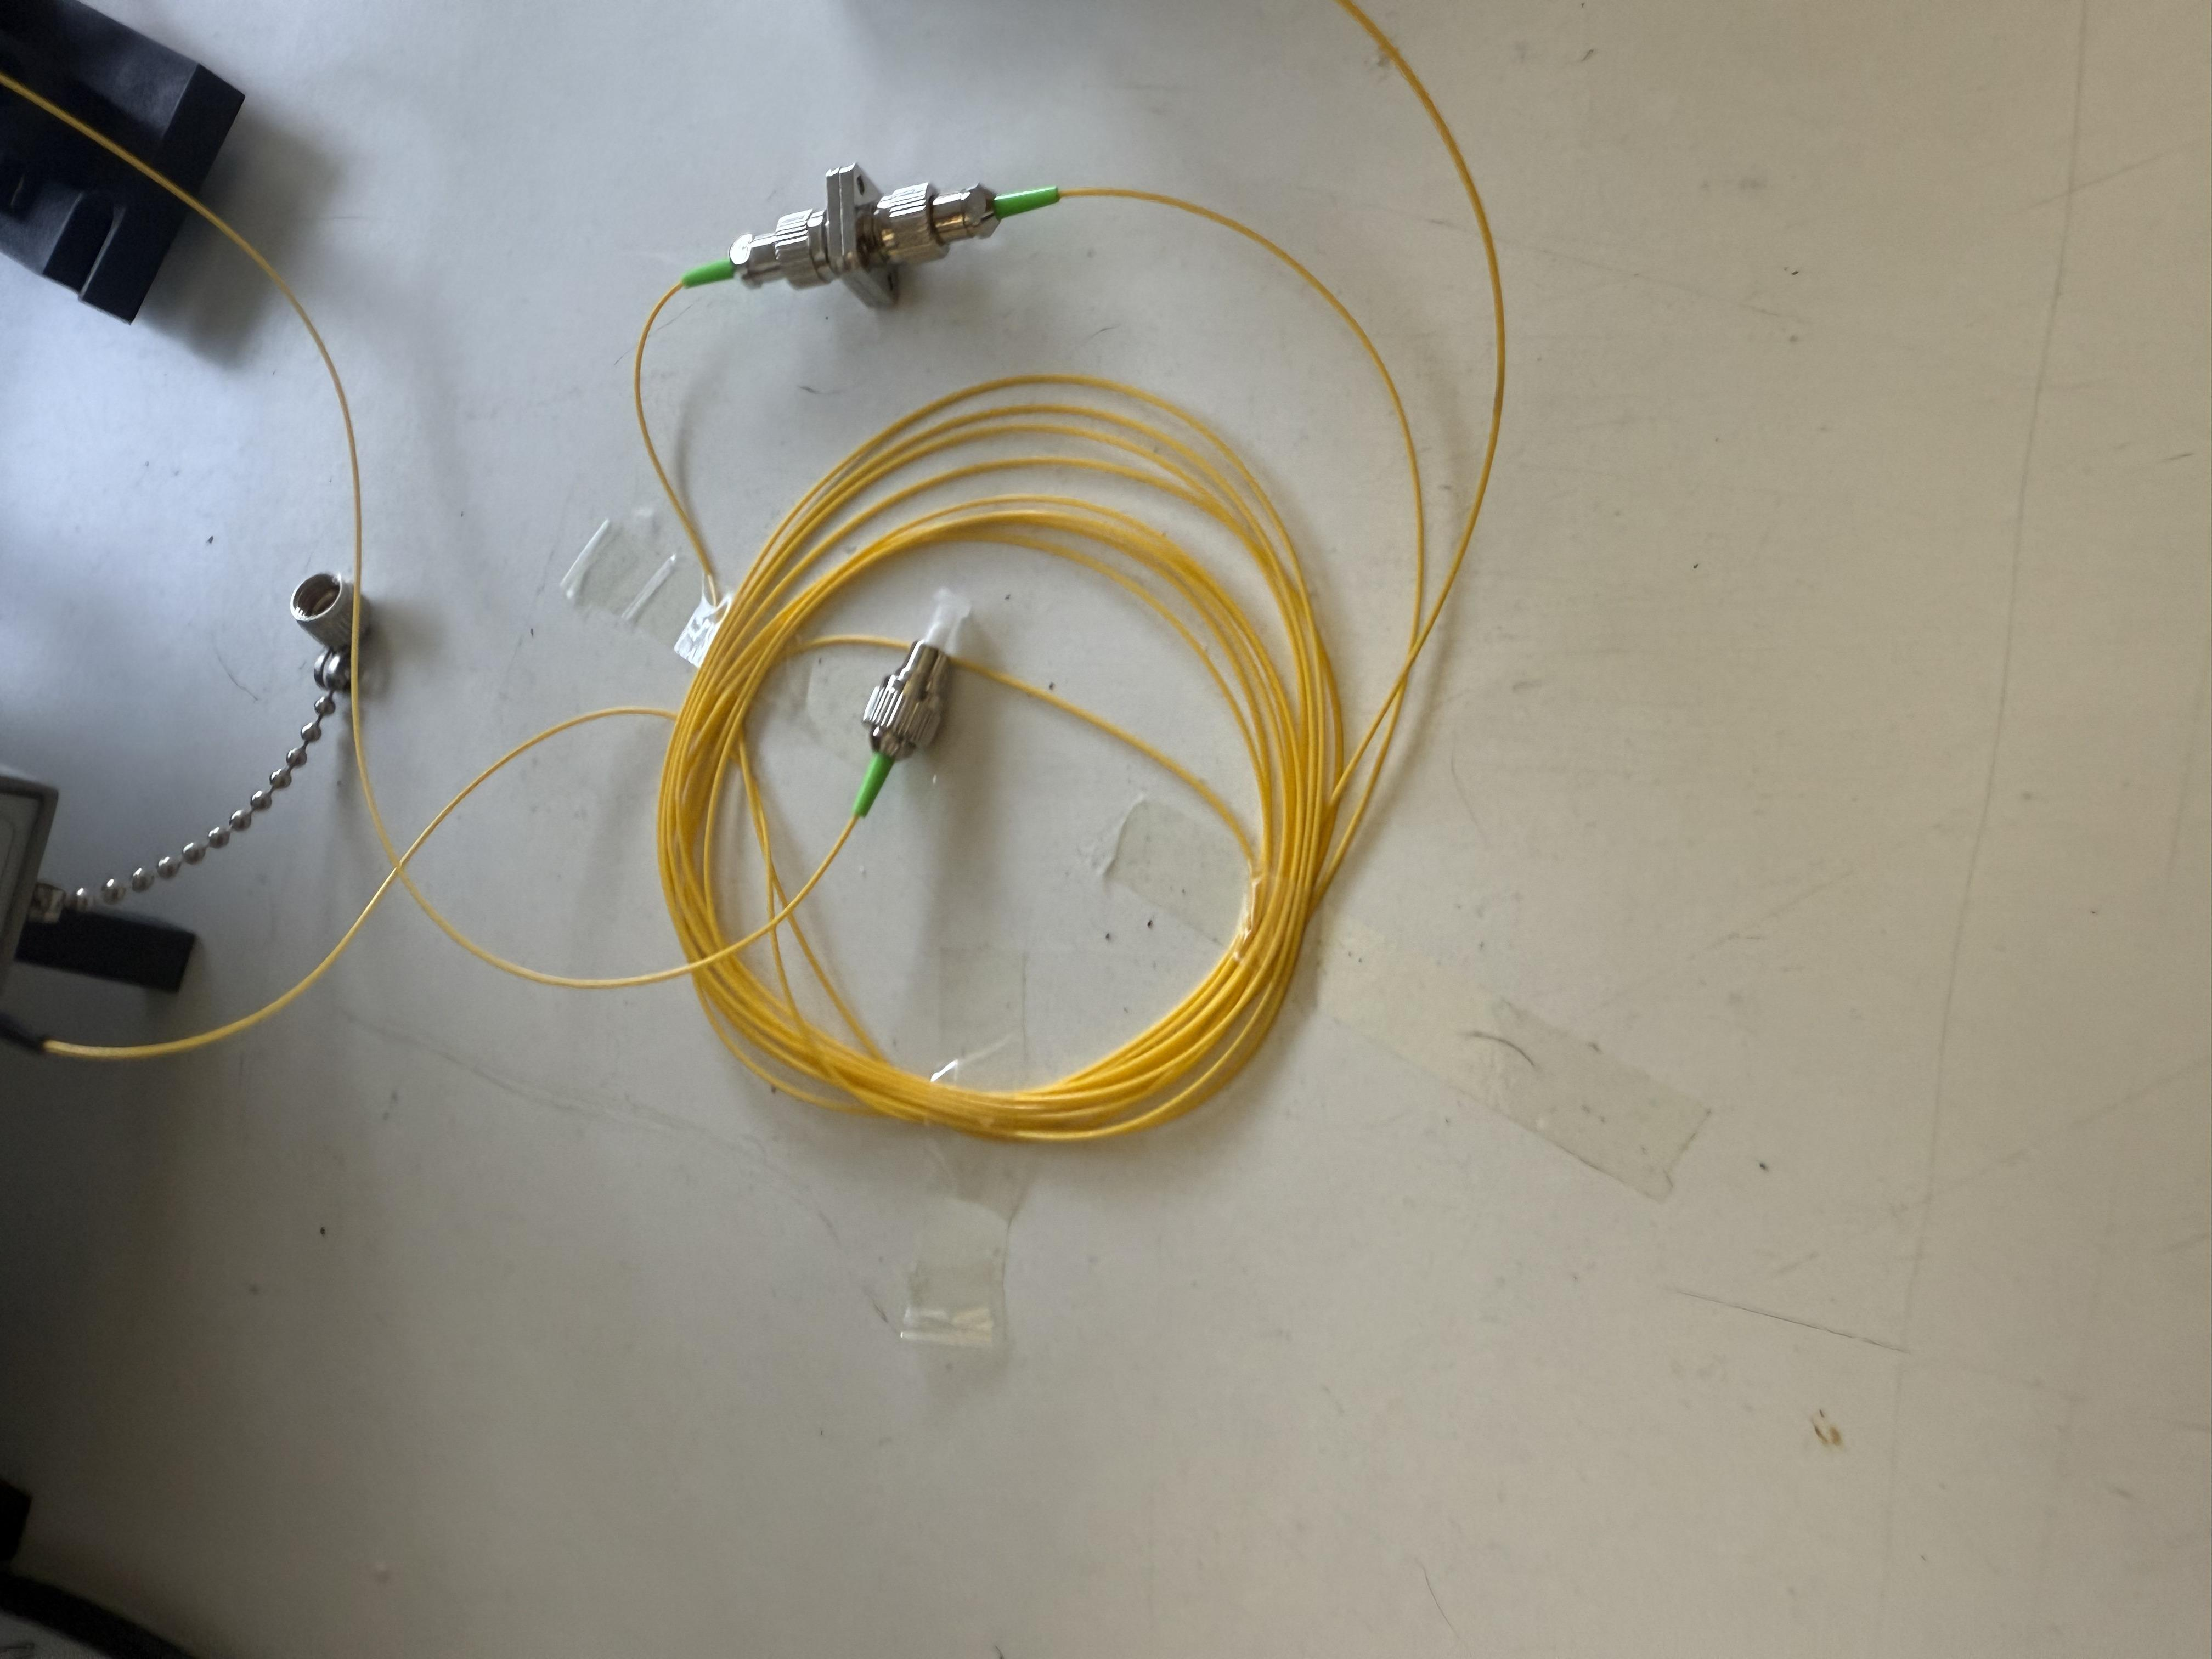fiber_cable: (568, 364, 1569, 1195)
